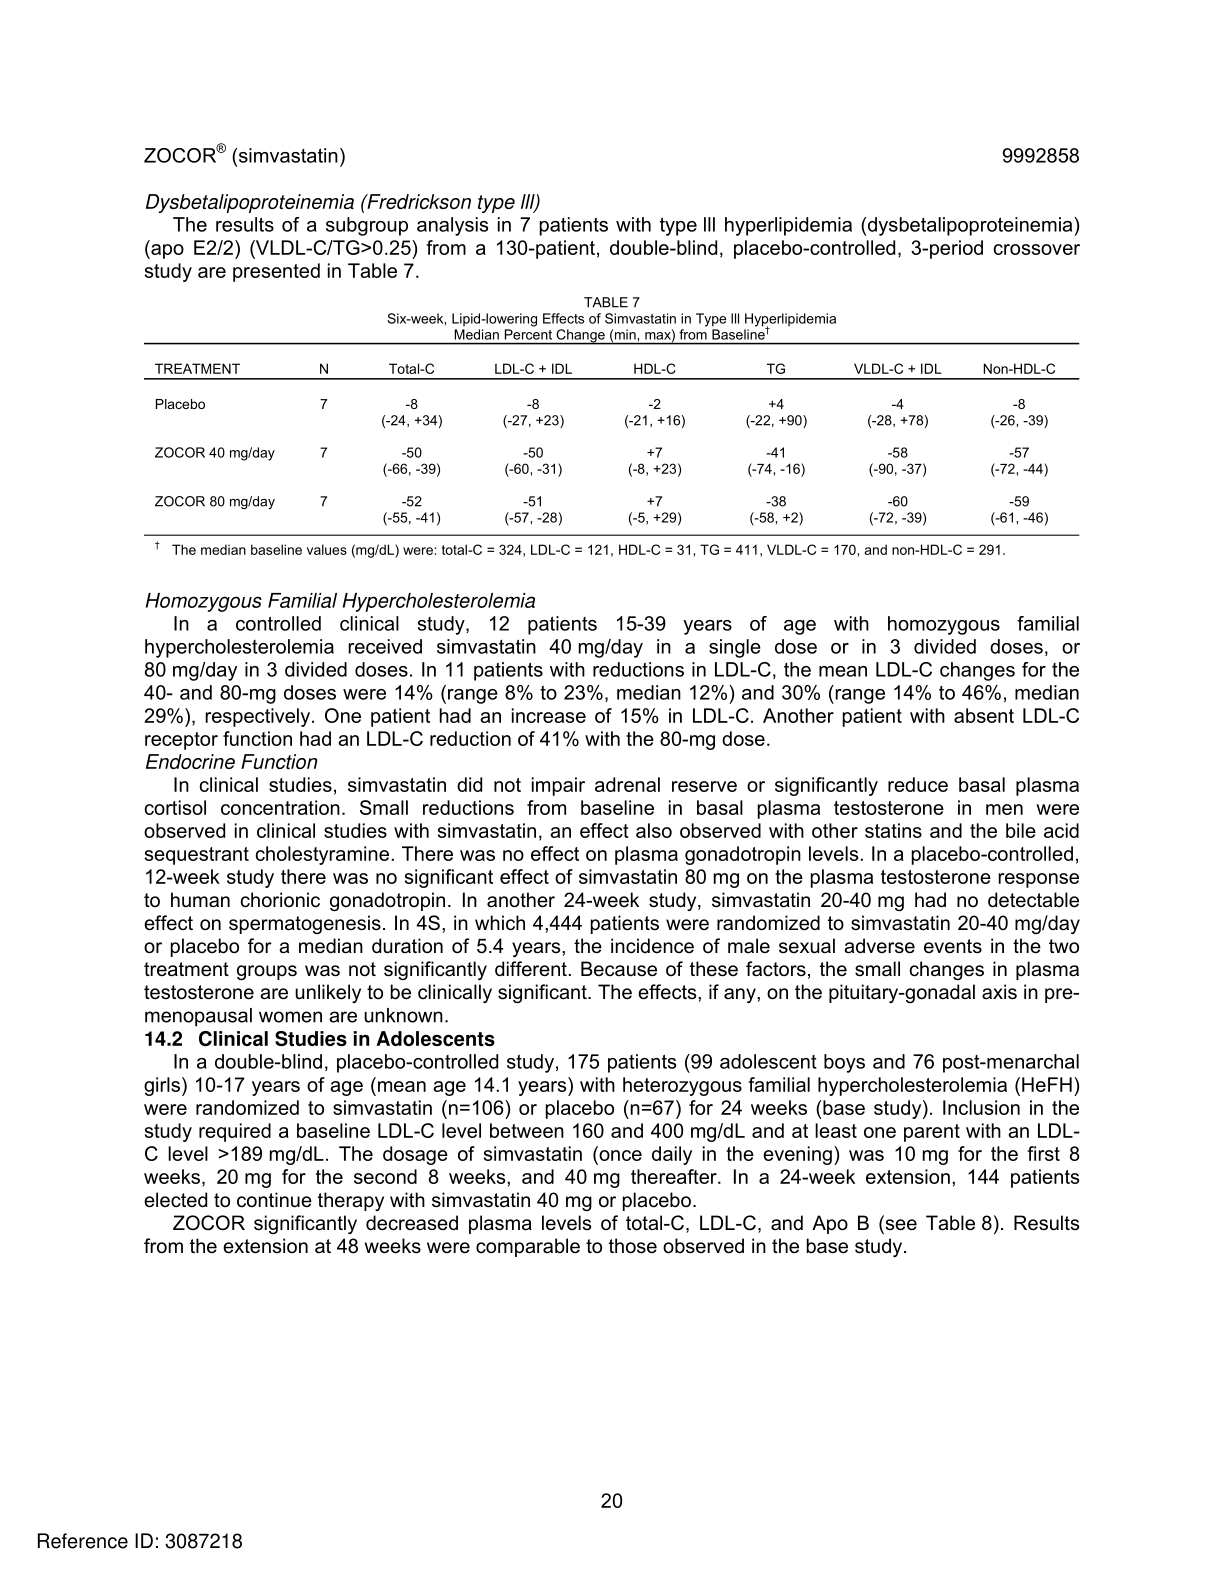partial_lined: (141, 341, 1083, 537)
